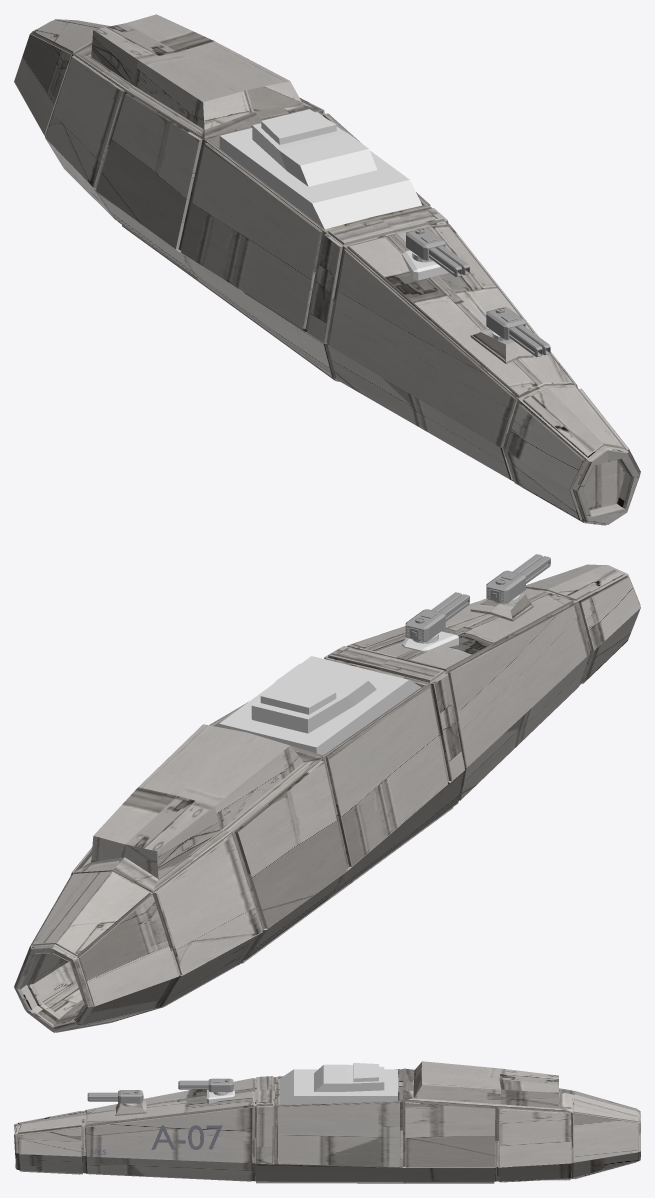
Rendered from frigate.glb.
3 views of the same model, one above another, from view 1: azimuth 30°, elevation 25°; view 2: azimuth 150°, elevation 25°; view 3: azimuth 270°, elevation 25° (orthographic). The views are drawn at different scales.
Visible parts, largest first — view 1: hull, deck01, deck02, turret2.001, turret2; view 2: hull, deck01, deck02, turret2, turret2.001; view 3: hull, deck01, deck02, a07, turret2, turret2.001, muzzle02.001, mount, muzzle02.003.
Boxes of the visible parts, bbox=[...] form: hull: bbox=[14, 14, 640, 525]; deck01: bbox=[219, 112, 422, 229]; deck02: bbox=[252, 109, 377, 186]; turret2.001: bbox=[486, 307, 525, 339]; turret2: bbox=[406, 228, 445, 260]; hull: bbox=[14, 564, 640, 1032]; deck01: bbox=[219, 656, 421, 755]; deck02: bbox=[251, 663, 376, 733]; turret2: bbox=[405, 609, 445, 641]; turret2.001: bbox=[486, 570, 525, 603]; hull: bbox=[14, 1061, 640, 1183]; deck01: bbox=[279, 1069, 397, 1104]; deck02: bbox=[314, 1063, 384, 1091]; a07: bbox=[151, 1125, 222, 1149]; turret2: bbox=[208, 1078, 233, 1092]; turret2.001: bbox=[118, 1090, 143, 1103]; muzzle02.001: bbox=[87, 1094, 117, 1101]; mount: bbox=[207, 1089, 234, 1103]; muzzle02.003: bbox=[178, 1083, 208, 1089].
Bounding box in the file's own units: 0.8193 × 0.8984 × 4.6.
Materials: 8 (1 with a texture image).
